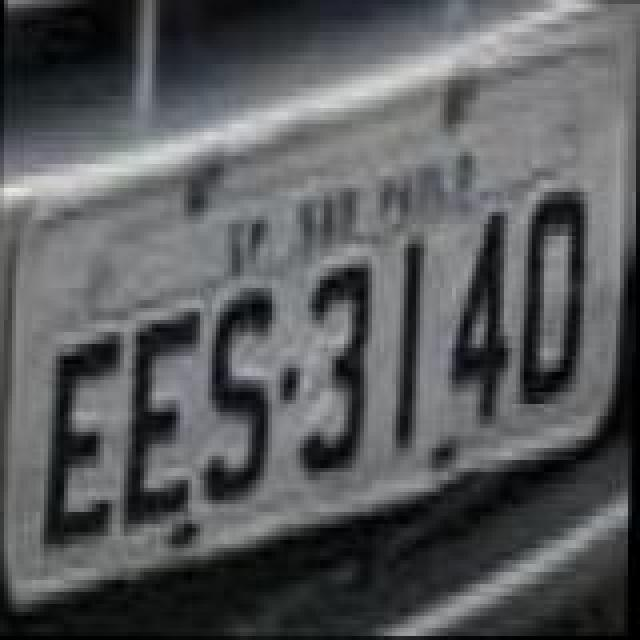1: (396, 236, 428, 460)
3: (304, 262, 376, 486)
4: (448, 208, 520, 432)
E: (40, 328, 120, 552), (126, 310, 206, 534)
O: (518, 184, 594, 408)
S: (204, 284, 280, 508)
